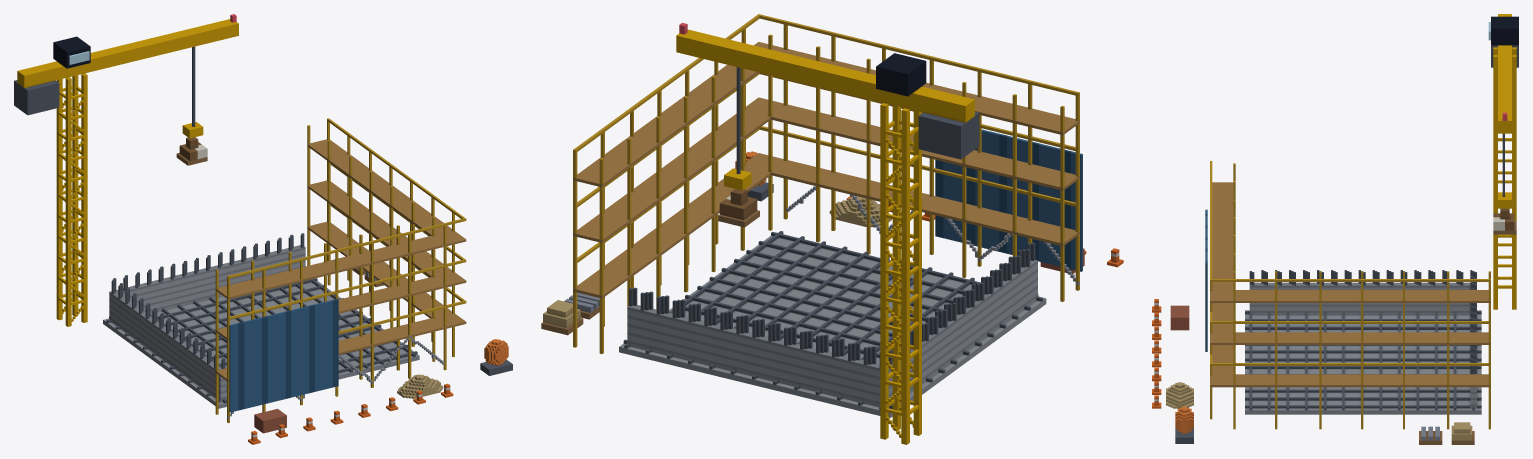
The model's file is pad_scaffold.glb.
The picture shows the model from 3 angles, left to right: view 1: azimuth 30°, elevation 25°; view 2: azimuth 150°, elevation 25°; view 3: azimuth 270°, elevation 25°; orthographic projection. The views are drawn at different scales.
Visible parts, largest first — view 1: Base; view 2: Base; view 3: Base.
Boxes of the visible parts, x1,y1,x2,y2 form: Base: [14, 14, 512, 444]; Base: [541, 14, 1123, 444]; Base: [1152, 14, 1518, 444].
Size of the model in its own units: 16.9 by 13.4 by 15.8.
